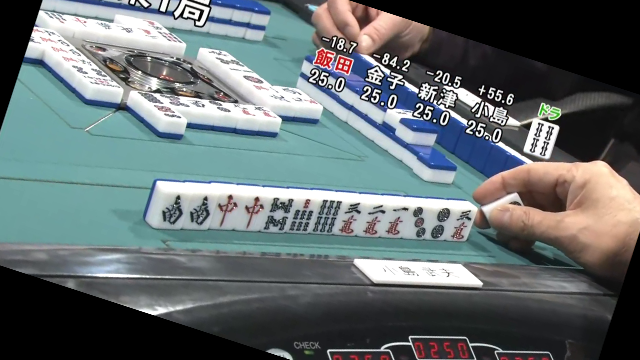Tehai: (144, 179, 500, 248)
